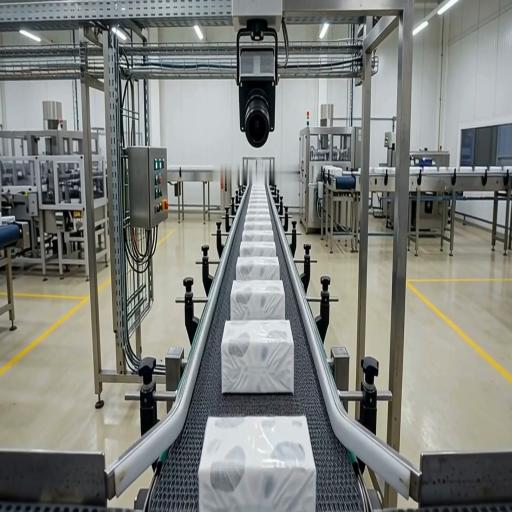good: (200, 414, 314, 512), (220, 319, 293, 394), (228, 278, 286, 321), (234, 256, 281, 282), (242, 194, 273, 221), (236, 242, 278, 261), (241, 228, 276, 244), (246, 183, 269, 197)
